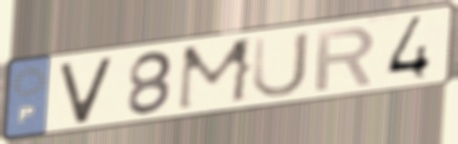4: (382, 13, 436, 83)
8: (124, 48, 174, 117)
M: (173, 35, 258, 114)
R: (312, 24, 378, 94)
U: (250, 29, 312, 101)
V: (57, 54, 116, 127)
